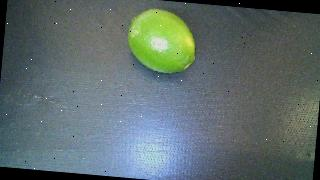EXPORTACION: (125, 7, 199, 76)
